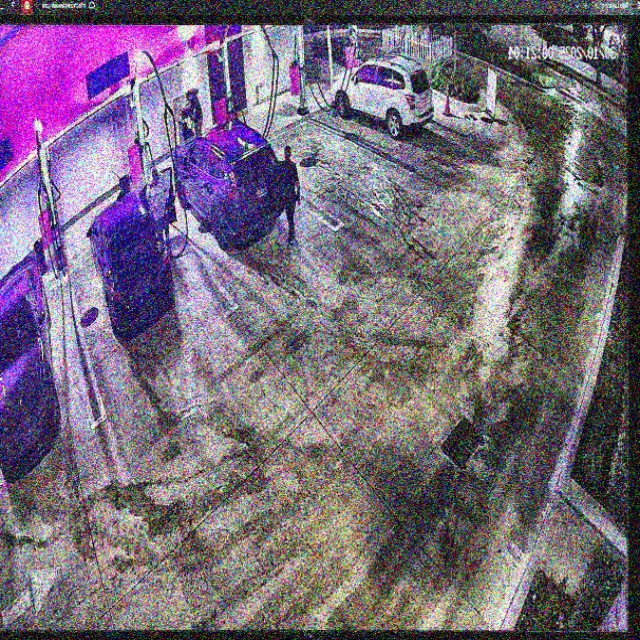Car: (173, 121, 285, 246), (90, 182, 175, 334)
